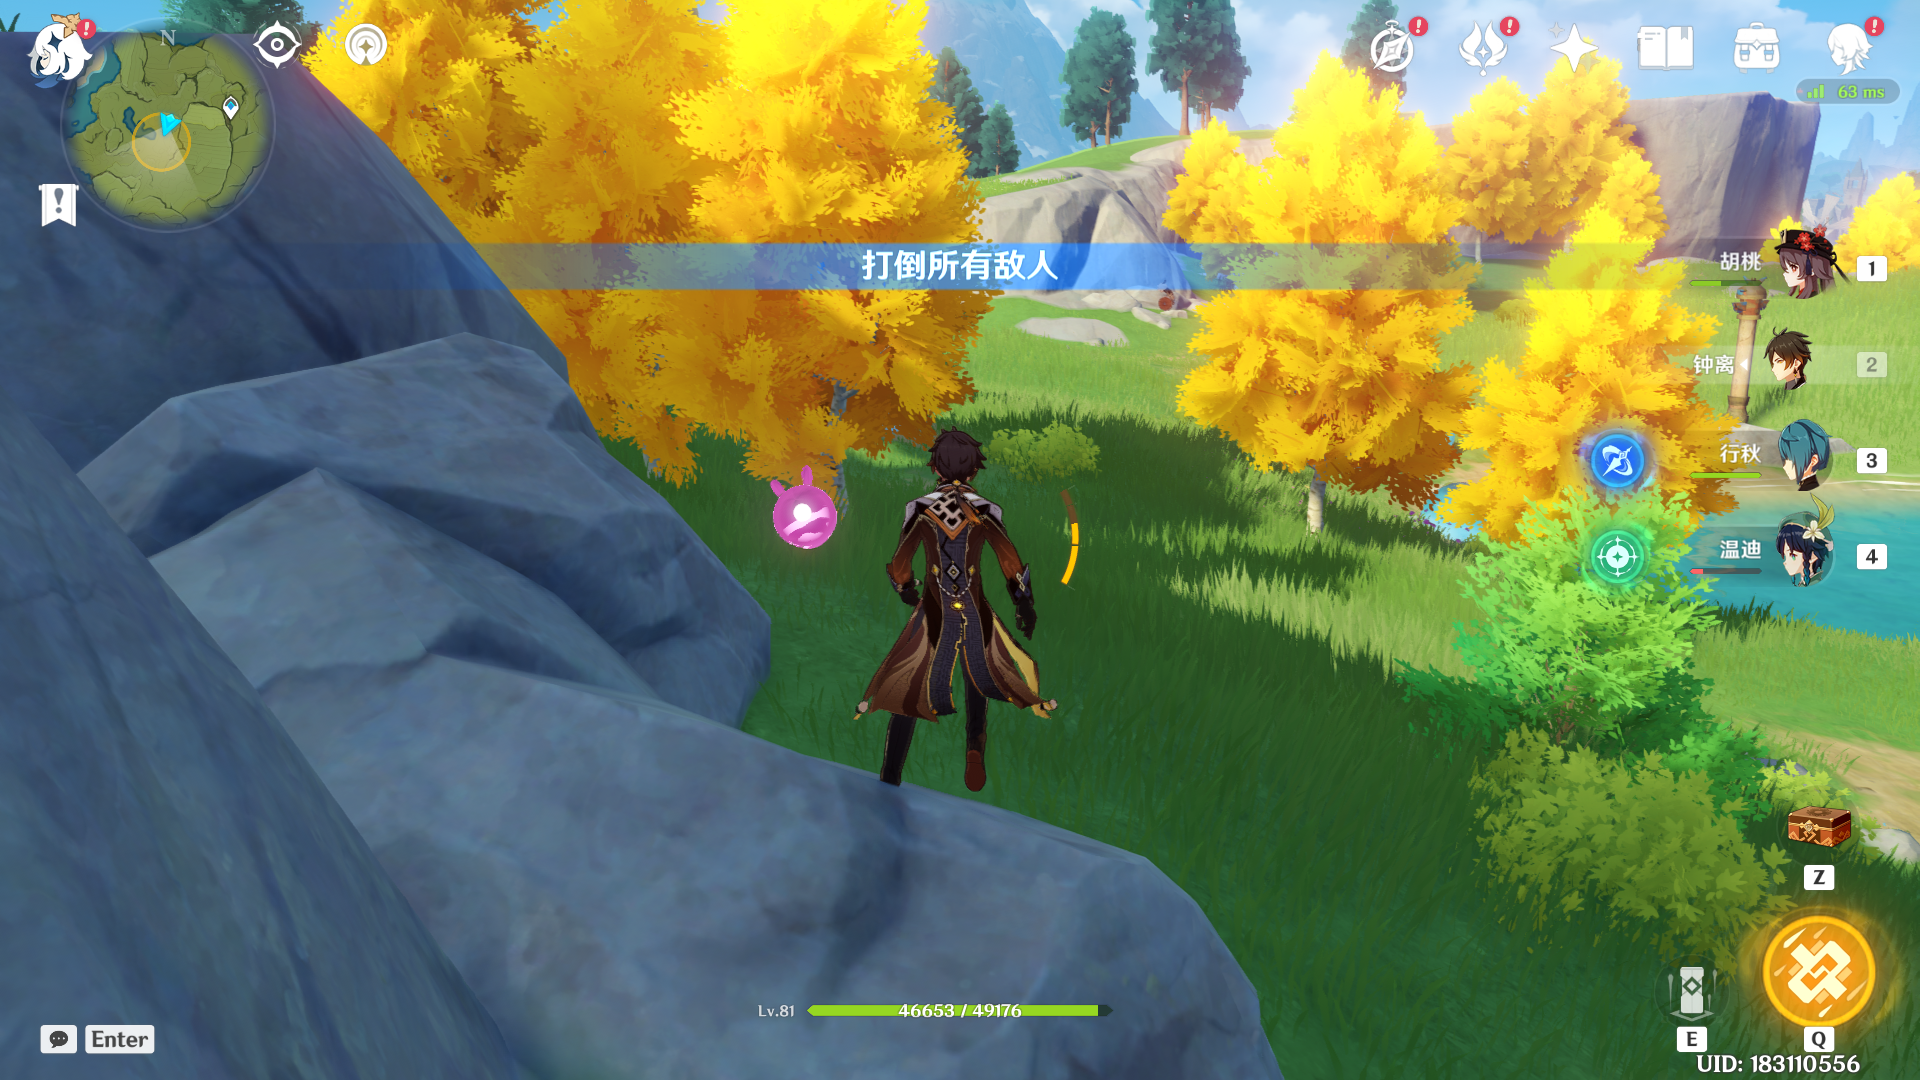character: (811, 392, 1058, 837)
